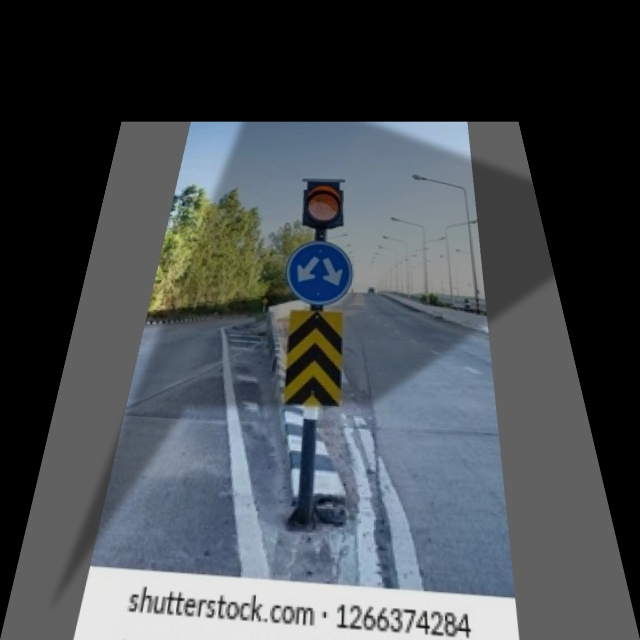Pass_Either_Side: (282, 238, 358, 306)
